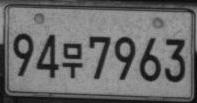3: (164, 38, 186, 82)
4: (36, 33, 59, 78)
6: (139, 37, 161, 82)
7: (88, 35, 111, 80)
9: (113, 35, 136, 80), (12, 32, 34, 76)
무: (62, 42, 83, 78)
